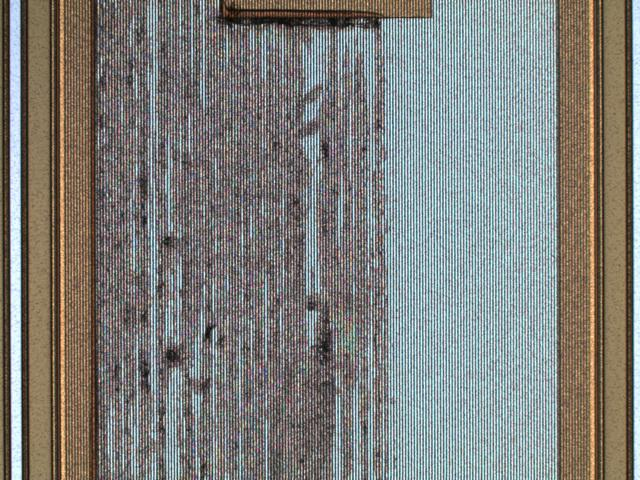SEZ BURNT: (91, 1, 400, 480)
